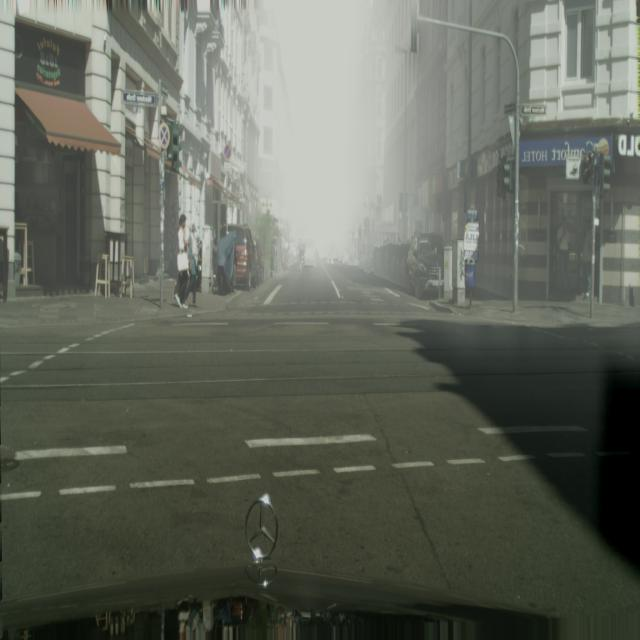person: (173, 213, 191, 309), (185, 216, 201, 309), (577, 218, 593, 304), (557, 216, 570, 292), (296, 237, 307, 272)
truck: (407, 232, 444, 298), (225, 224, 259, 291), (300, 236, 317, 272)
